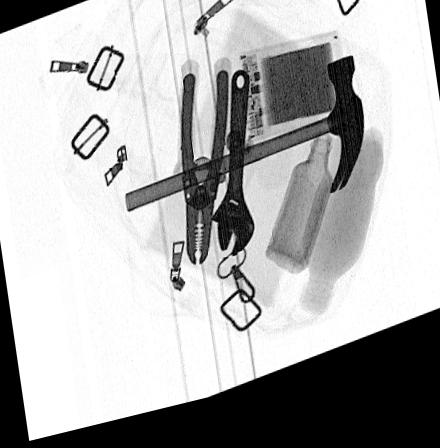Hammer: (125, 70, 364, 216)
Pliers: (179, 67, 232, 275)
Powerbank: (240, 45, 349, 156)
Wrench: (209, 78, 256, 269)
